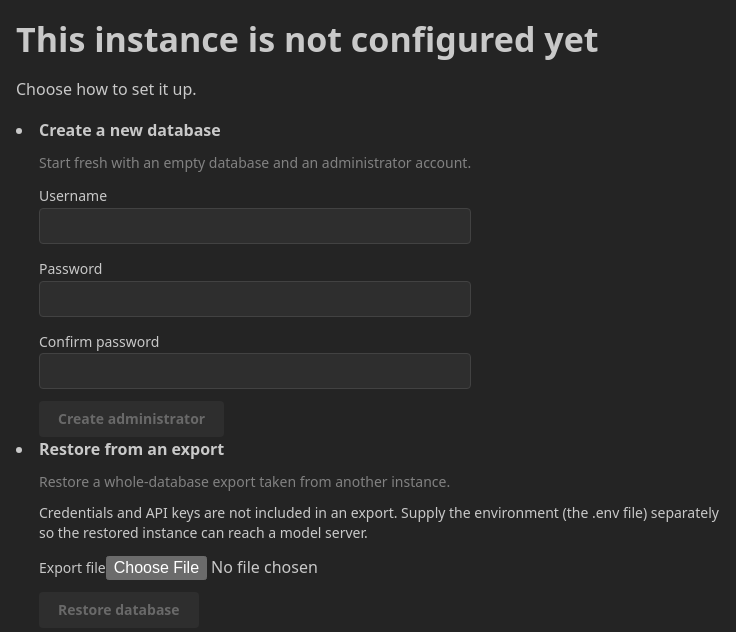
Test case: an already_configured answer › on the page, the refusal and its sign-in link render and the form is gone — DoD-6 (US-003.AC-1, US-003.AC-2)
The width and height of the screenshot is (736, 632).
In the field labelled "Username": (255, 226) [39,208,471,244], type "operator-admin"
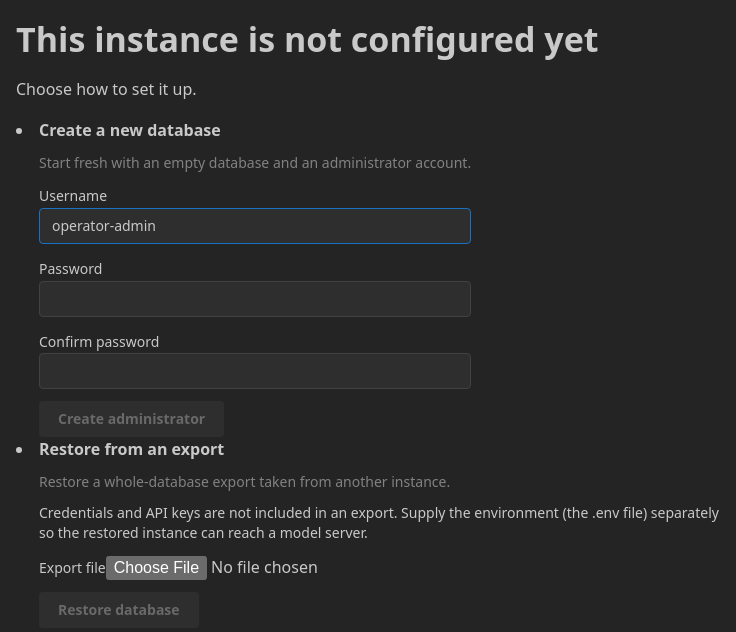
In the password field labelled "Password": (255, 299) [39,281,471,317], type "Tq9-correct-horse-zq"
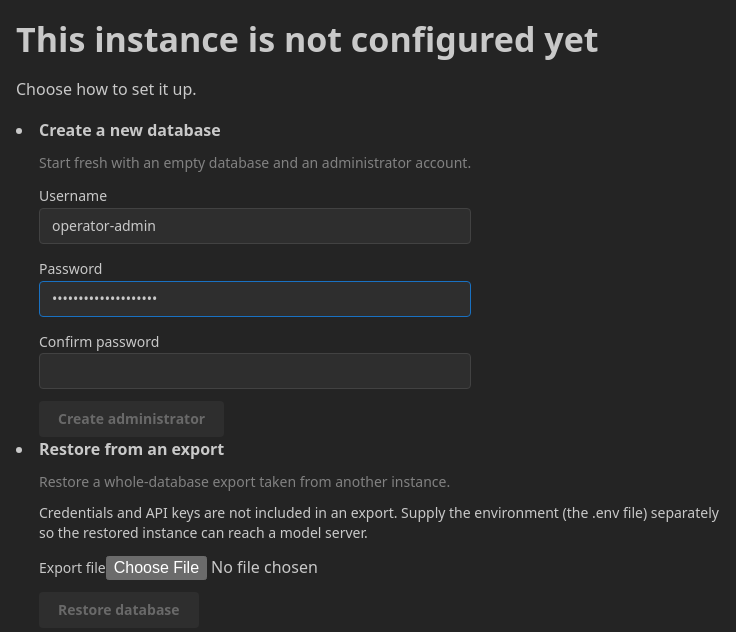
In the password field labelled "Confirm password": (255, 372) [39,354,471,390], type "Tq9-correct-horse-zq"
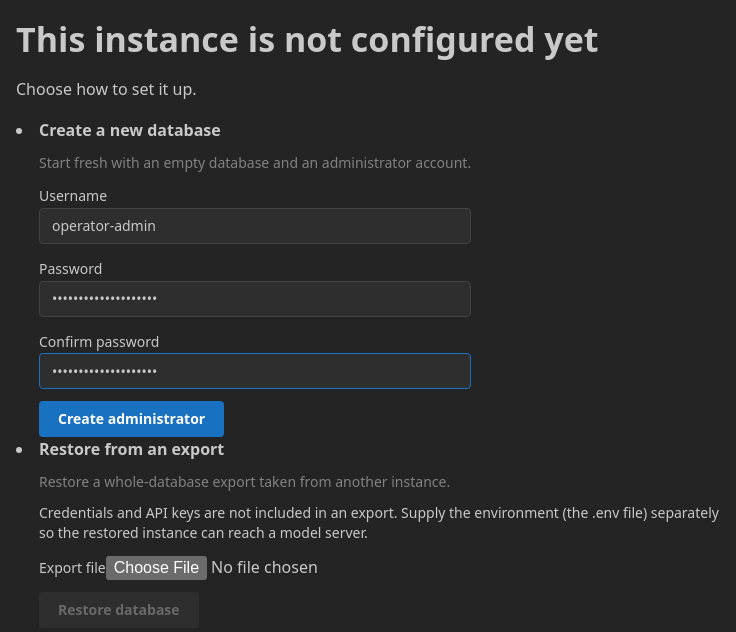
Click the submit button: (132, 420) [39,402,224,438]
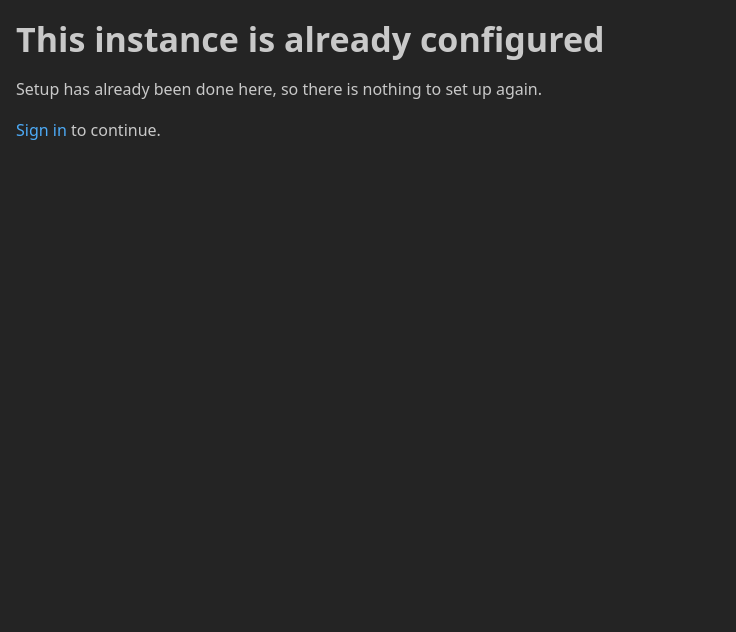
Check: the text "already configured" is shown, box [16,16,604,62]
Check: no buttons are shown
